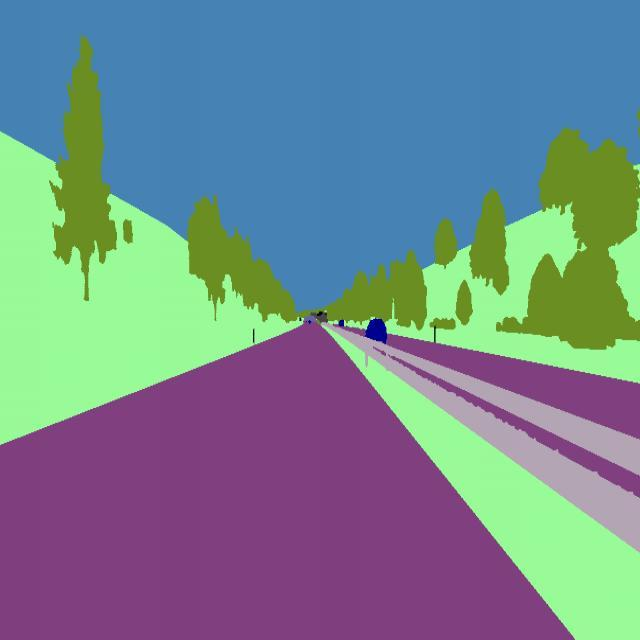safe: (366, 316, 388, 349)
